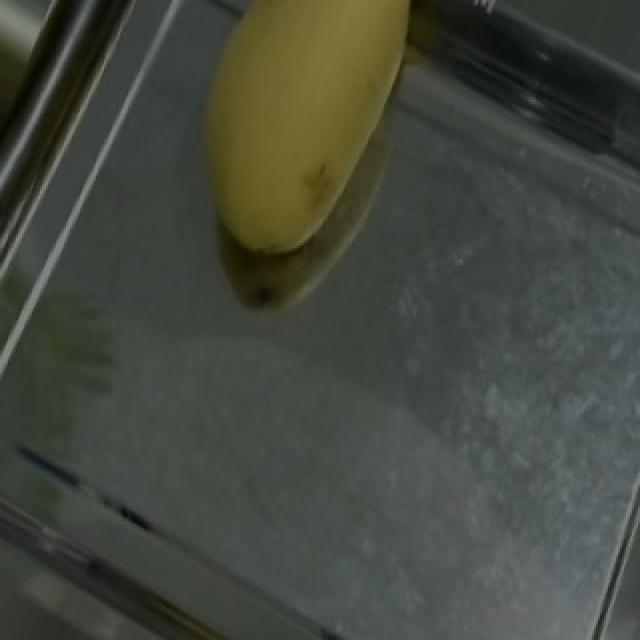fruit: (150, 0, 462, 298)
